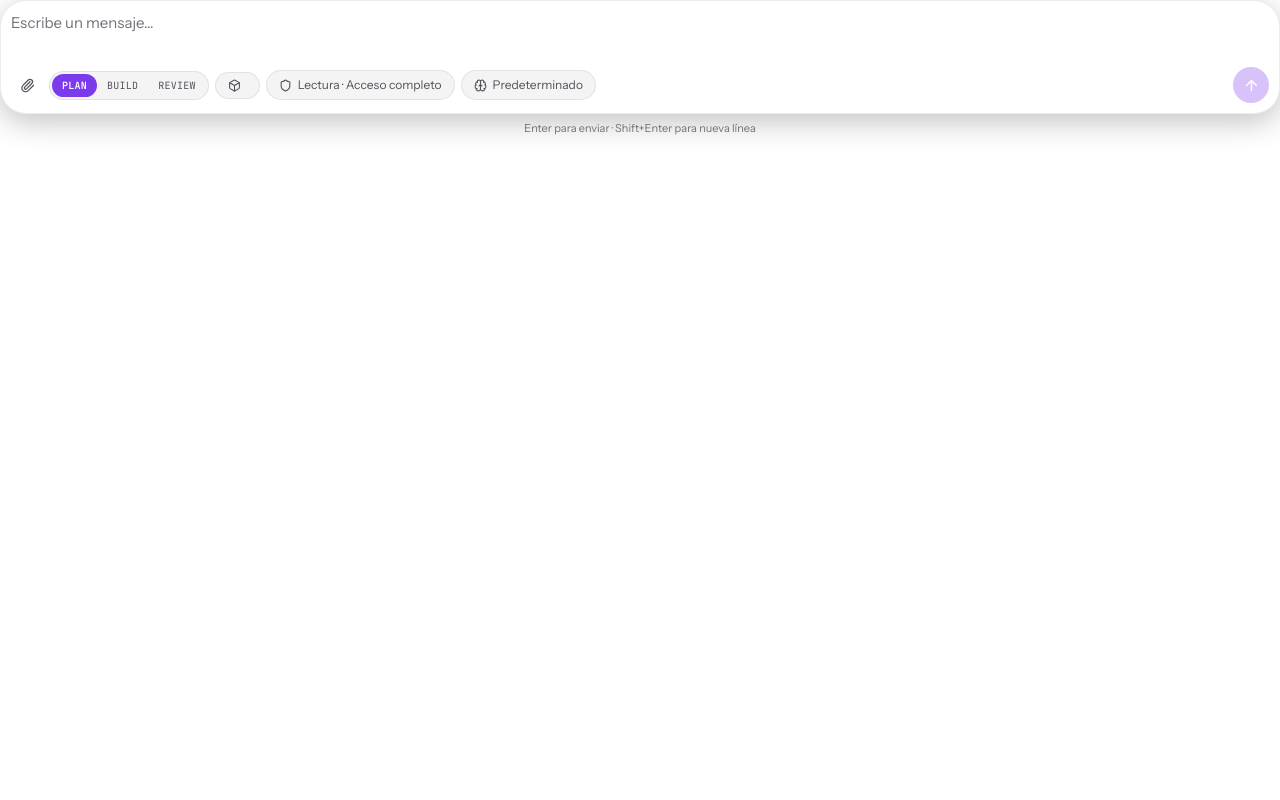
it: allows changing read scope in PLAN while showing immutable execution
Click the button titled "Permisos de este chat" at (360, 85), box top-left (266, 70), bottom-right (455, 100)
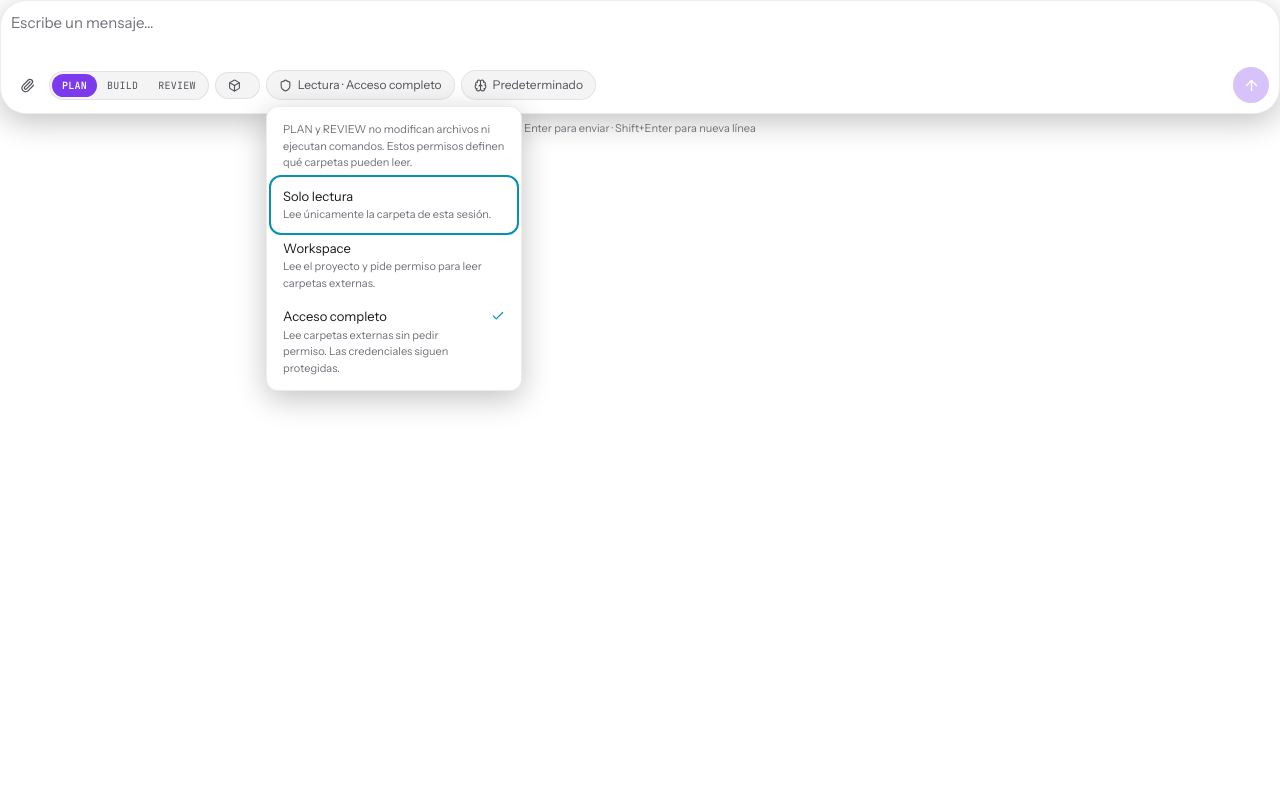
expect the text "PLAN y REVIEW no modifican archivos" is shown: met, box top-left (283, 122), bottom-right (504, 169)
Click the button "Workspace" at (394, 265), box top-left (273, 230), bottom-right (515, 299)
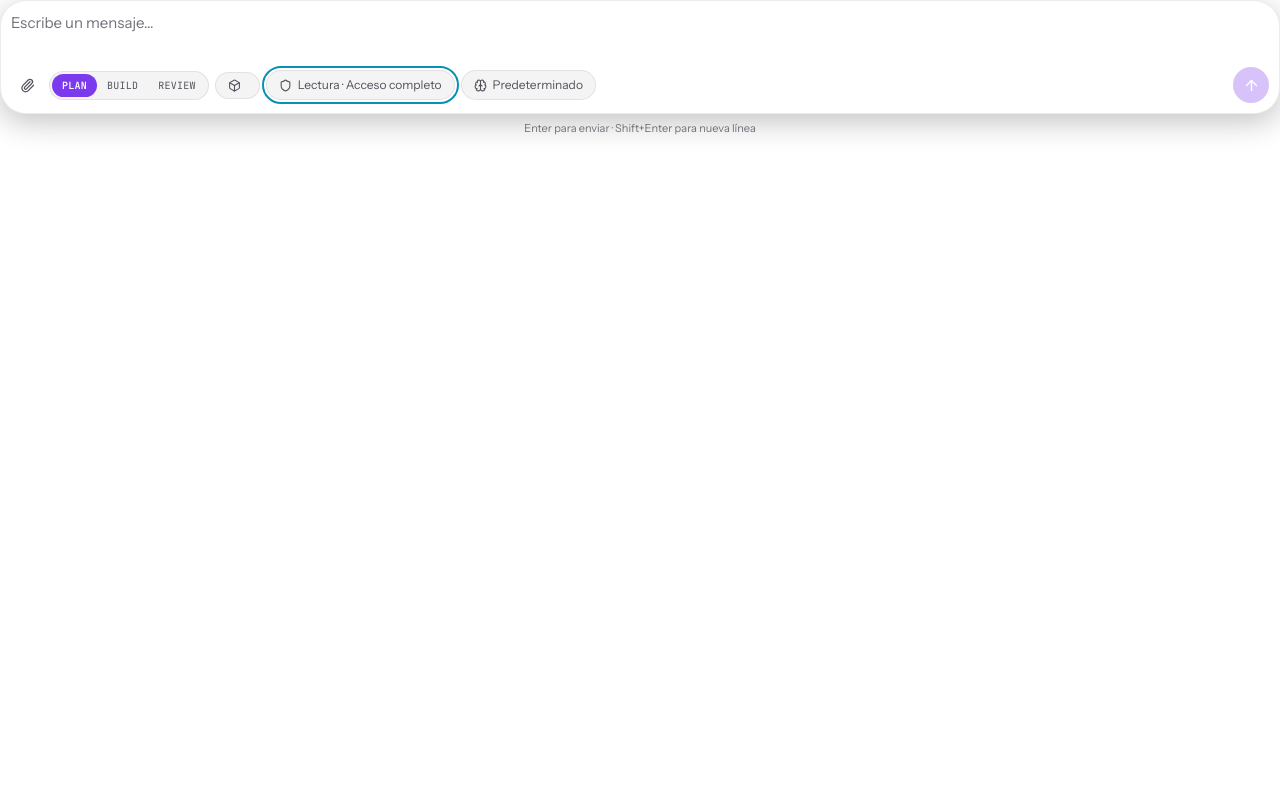
expect the dialog is gone: met
